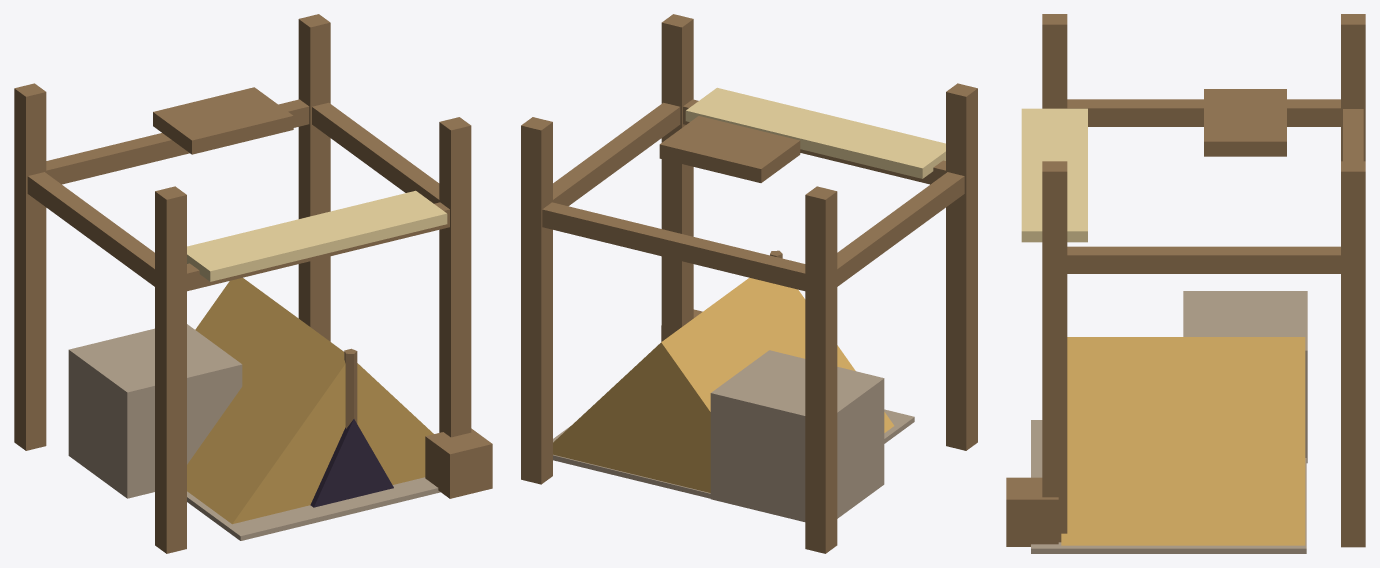
File: sand-scaffold.glb
3 views of the same model, side by side, from view 1: azimuth 30°, elevation 25°; view 2: azimuth 150°, elevation 25°; view 3: azimuth 270°, elevation 25° (orthographic). The views are drawn at different scales.
Visible parts, largest first — view 1: sand-scaffold; view 2: sand-scaffold; view 3: sand-scaffold.
Part boxes in pixels (<box>): sand-scaffold: <box>14,14,492,553</box>; sand-scaffold: <box>521,14,977,553</box>; sand-scaffold: <box>1006,14,1365,553</box>.
Size of the model in its own units: 0.9375 by 1 by 0.867.
